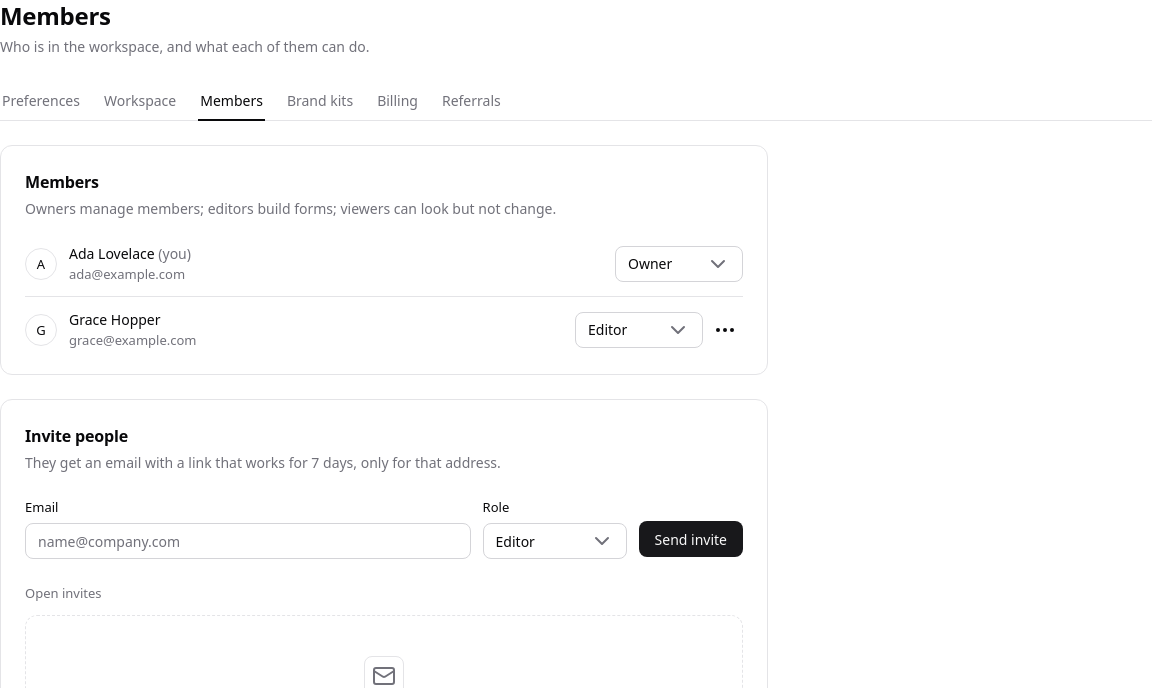
Scenario: MembersPage for owners › changes roles and removes people
This screenshot has width=1152, height=688.
Click the dropdown named "Role of Grace Hopper": (639, 330) [575,312,703,348]
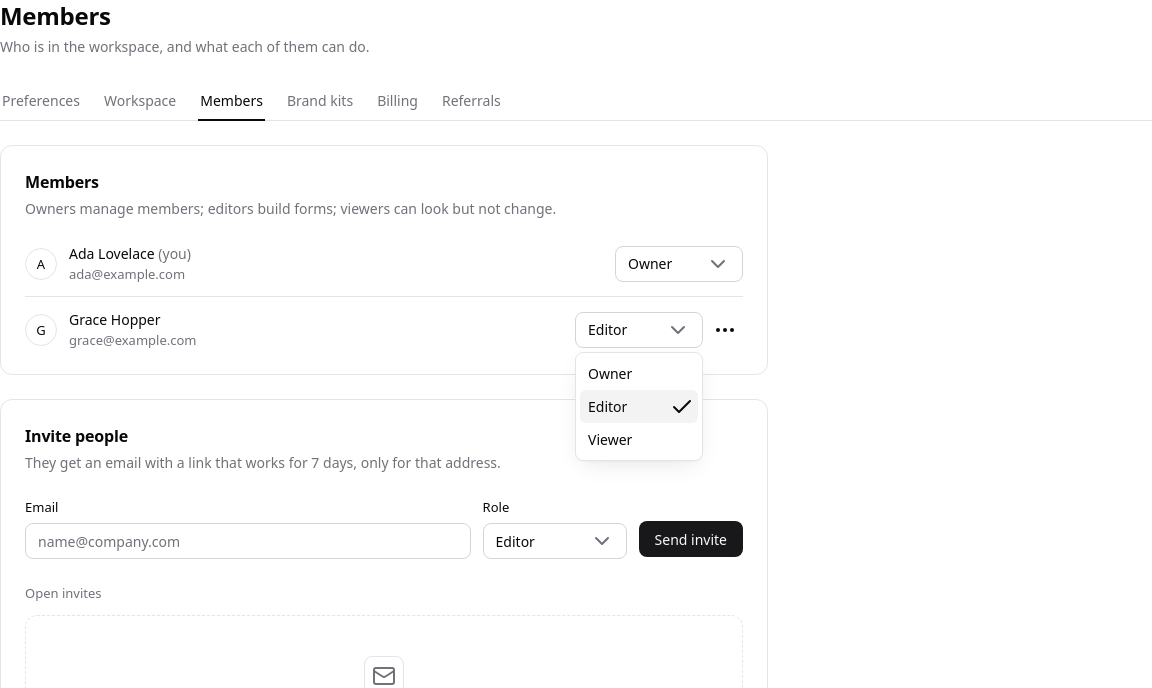
Click the option "Viewer": (610, 440) [588,430,632,449]
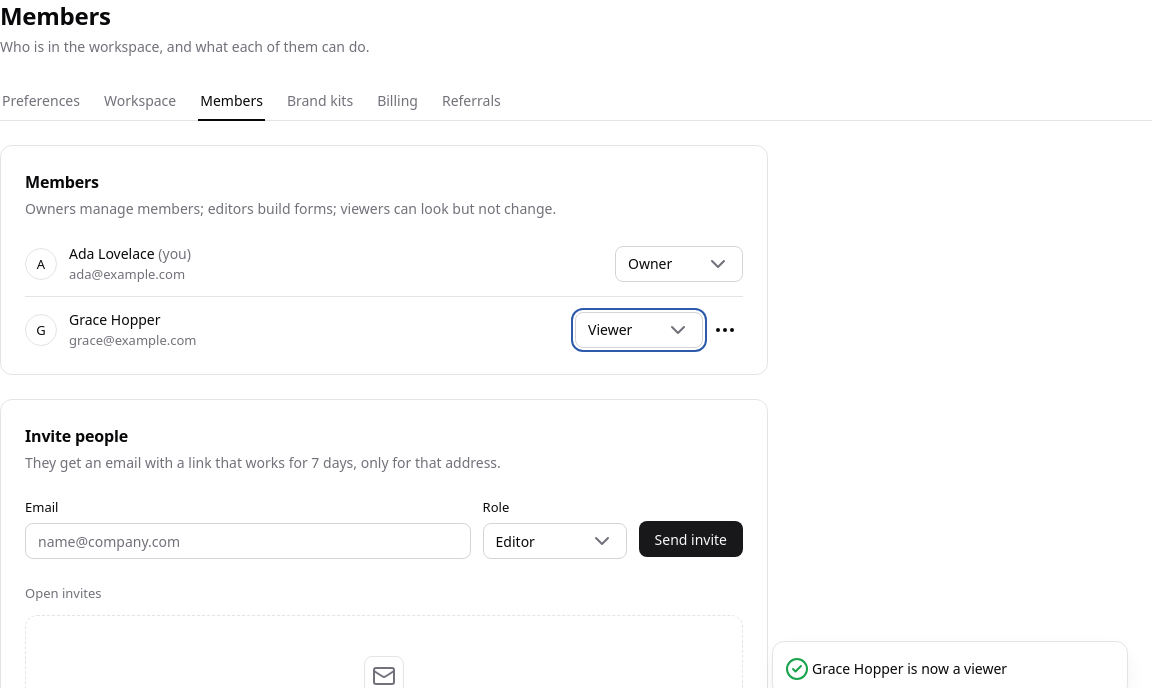
Check: the text "Grace Hopper is now a viewer" is shown, box [812,658,1007,679]
Click the button named "More actions for Grace Hopper": (725, 330) [707,312,743,348]
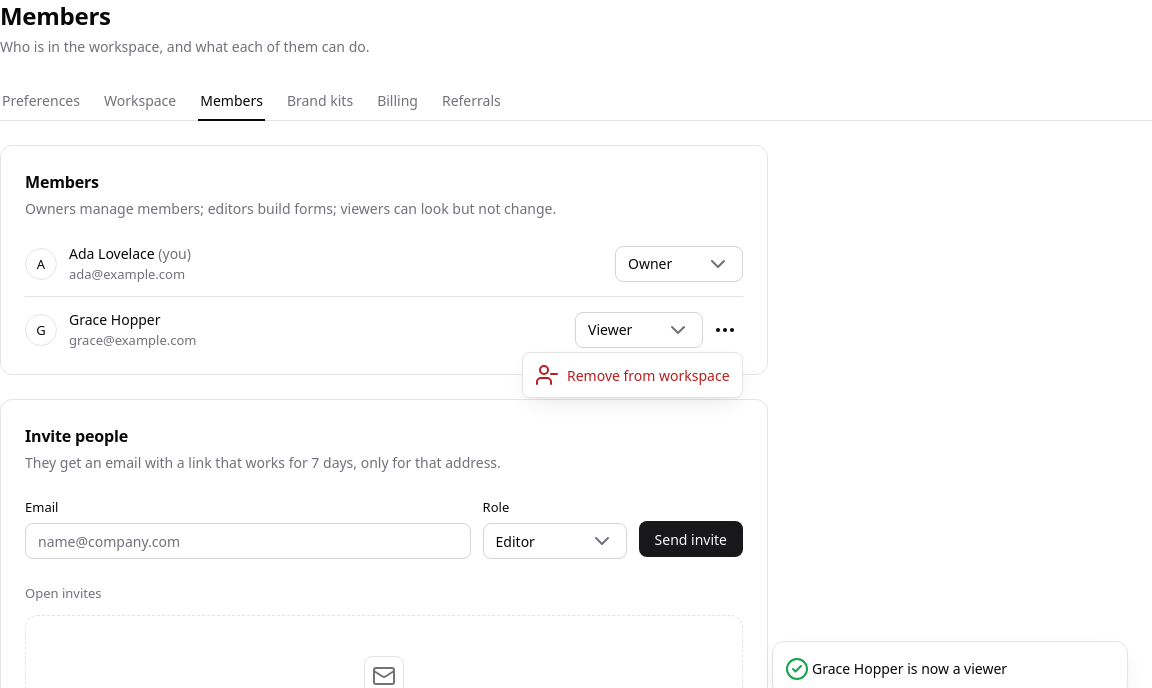
Click the menu item "Remove from workspace": (632, 375) [527,357,738,393]
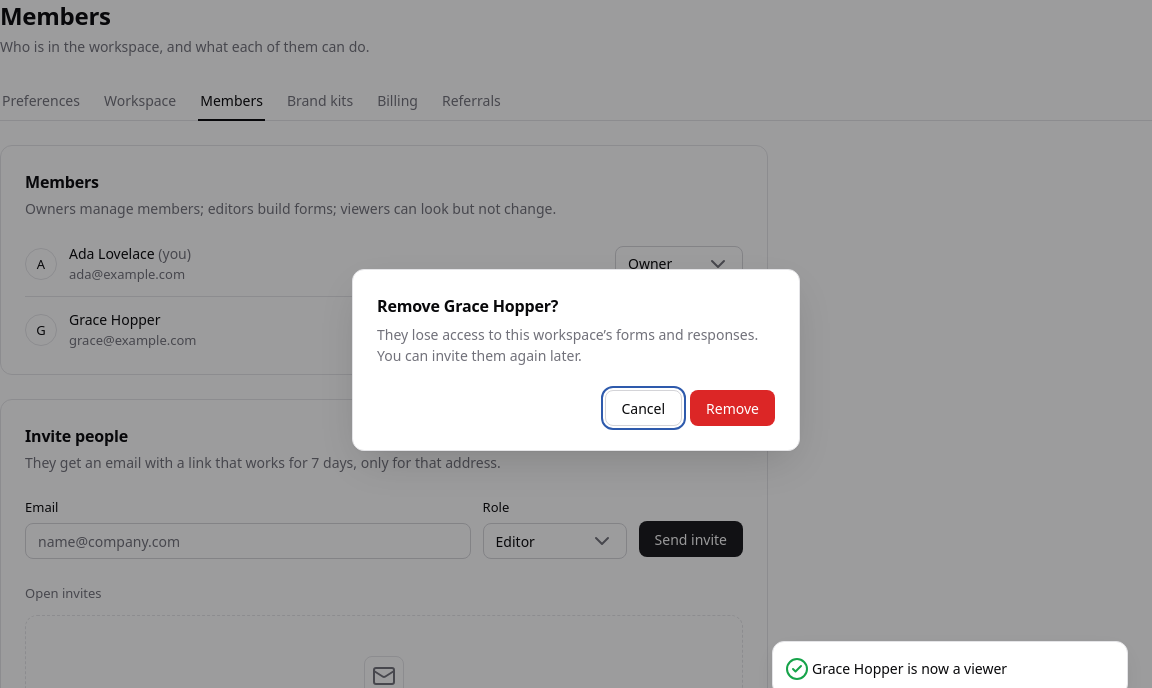
Click the button "Remove": (733, 408) [690,390,775,426]
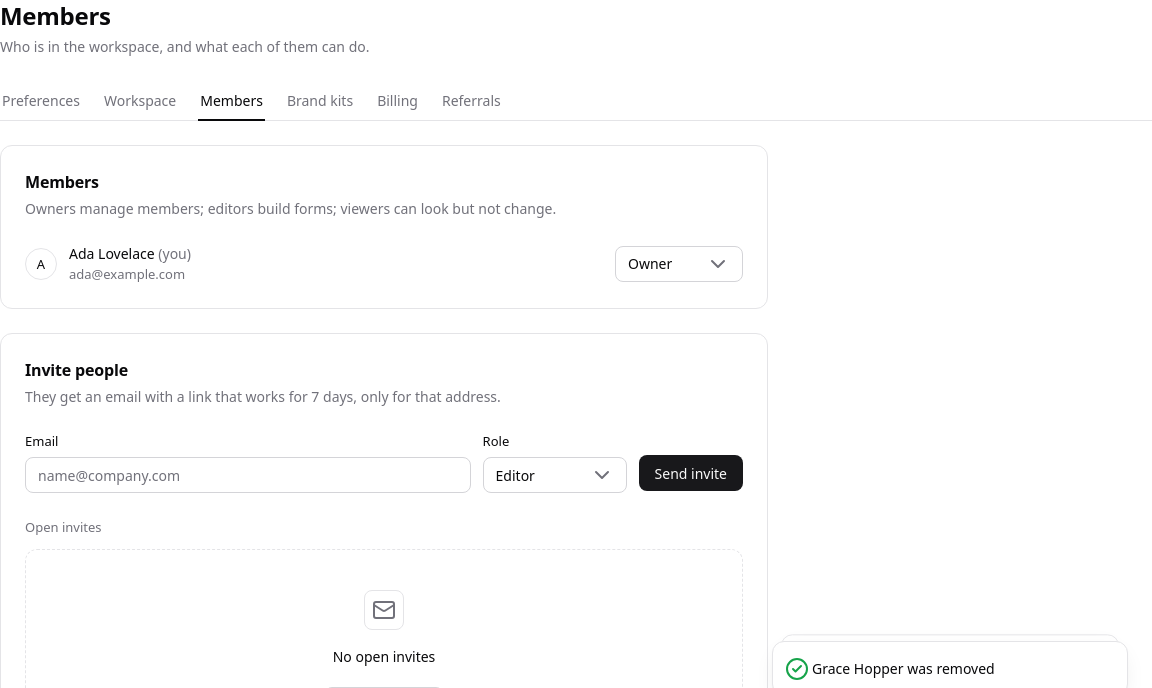
Check: the text "Grace Hopper was removed" is shown, box [812,658,995,679]
Check: the text "grace@example.com" is gone
